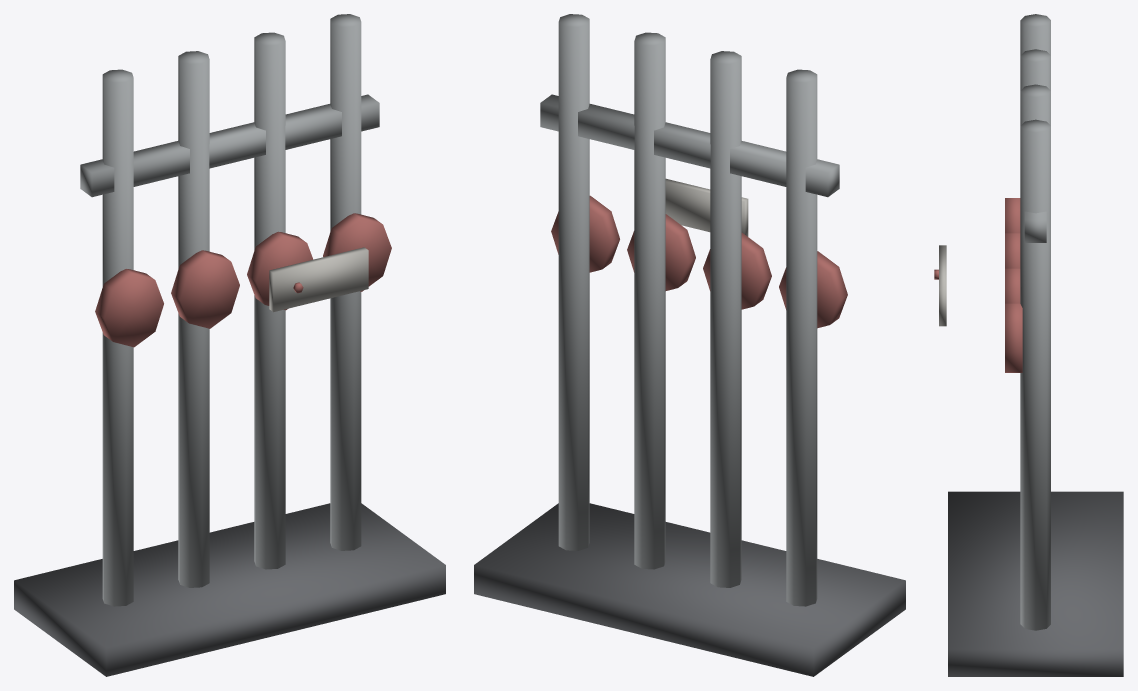
The model's file is radiator_manifold__tall.glb.
3 renders of one model, left to right at view 1: azimuth 30°, elevation 25°; view 2: azimuth 150°, elevation 25°; view 3: azimuth 270°, elevation 25°, orthographic. The views are drawn at different scales.
Parts seen in each view (by area): view 1: world; view 2: world; view 3: world.
Boxes of the visible parts, bbox=[...] form: world: bbox=[14, 14, 445, 676]; world: bbox=[474, 14, 905, 676]; world: bbox=[934, 14, 1123, 676].
Bounding box in the file's own units: 0.85 × 1.32 × 0.431.
